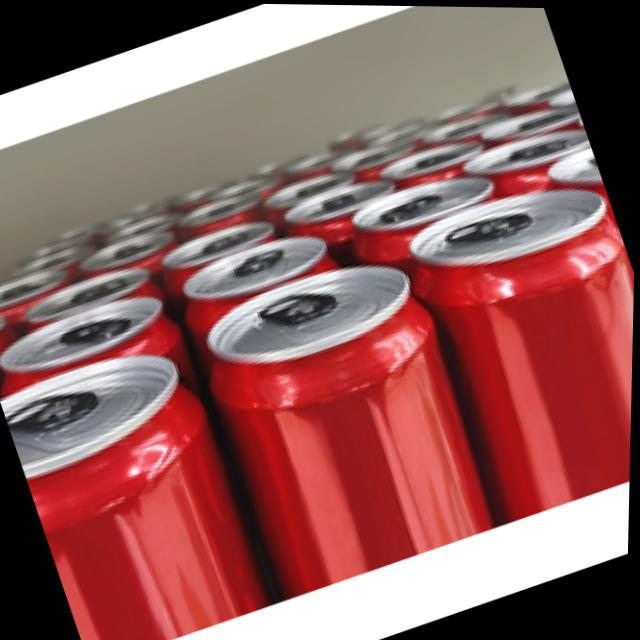aluminum_soda_cans: (192, 239, 502, 599), (0, 320, 290, 640), (404, 159, 637, 523), (177, 219, 335, 307)
